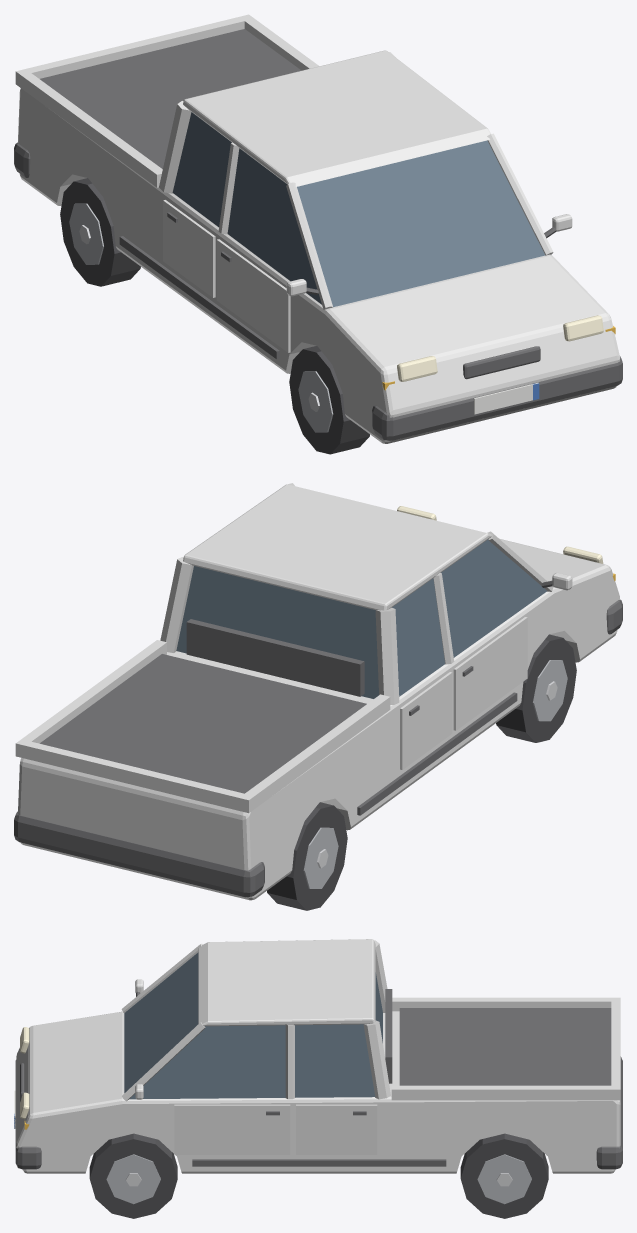
The model's file is car-pickup.glb.
3 views of the same model, one above another, from view 1: azimuth 30°, elevation 25°; view 2: azimuth 150°, elevation 25°; view 3: azimuth 270°, elevation 25° (orthographic). The views are drawn at different scales.
Parts seen in each view (by area): view 1: body, detach_bumper_front, wheel-back-right, wheel-front-right, detach_door_right; view 2: body, detach_bumper_back, wheel-back-right, wheel-front-right, detach_door_right; view 3: body, detach_door_left, wheel-back-left, wheel-front-left, detach_bumper_back, detach_bumper_front.
Part boxes in pixels (left/top/right/bottom): body: left=15, top=14, right=620, bottom=443; detach_bumper_front: left=372, top=356, right=622, bottom=440; wheel-back-right: left=60, top=178, right=140, bottom=286; wheel-front-right: left=289, top=346, right=369, bottom=454; detach_door_right: left=216, top=239, right=290, bottom=352; body: left=15, top=483, right=619, bottom=900; detach_bumper_back: left=14, top=811, right=264, bottom=897; wheel-back-right: left=267, top=802, right=347, bottom=910; wheel-front-right: left=496, top=634, right=576, bottom=742; detach_door_right: left=453, top=617, right=527, bottom=730; body: left=16, top=939, right=620, bottom=1173; detach_door_left: left=174, top=1104, right=290, bottom=1154; wheel-back-left: left=460, top=1133, right=548, bottom=1218; wheel-front-left: left=89, top=1133, right=177, bottom=1218; detach_bumper_back: left=596, top=1056, right=622, bottom=1169; detach_bumper_front: left=14, top=1060, right=41, bottom=1169.
Bounding box in the file's own units: 2.28 × 1.85 × 5.25.
